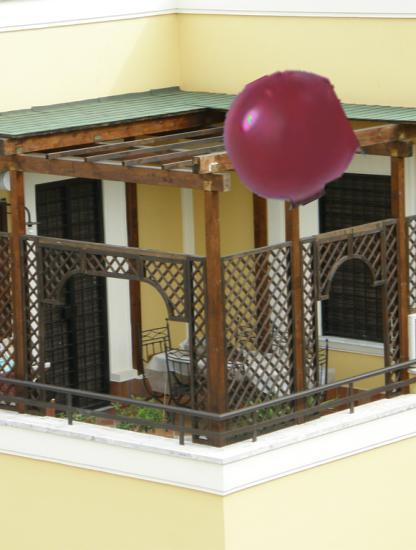Redcurrant: (222, 71, 357, 206)
